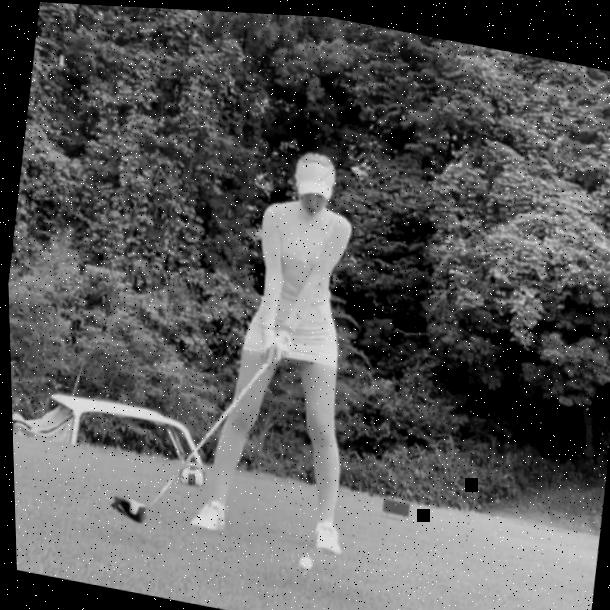ClubHead: (106, 495, 146, 523)
GolfBall: (295, 552, 310, 569)
